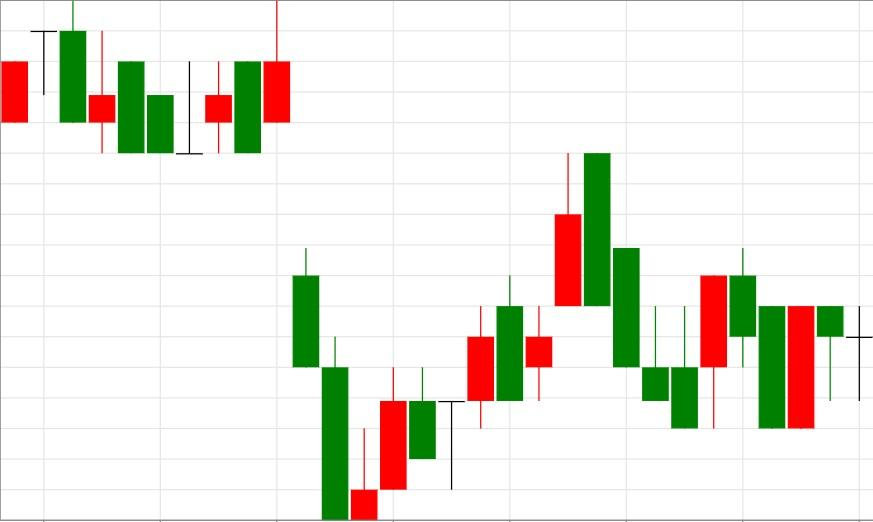bearish_engulfing_fall: (350, 153, 611, 521)
inverse_hammer_rise: (263, 0, 379, 522), (584, 152, 670, 401)
